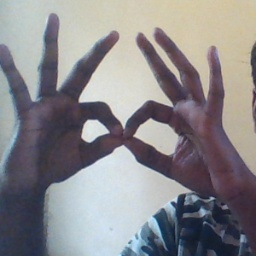B: (67, 92, 190, 177)
